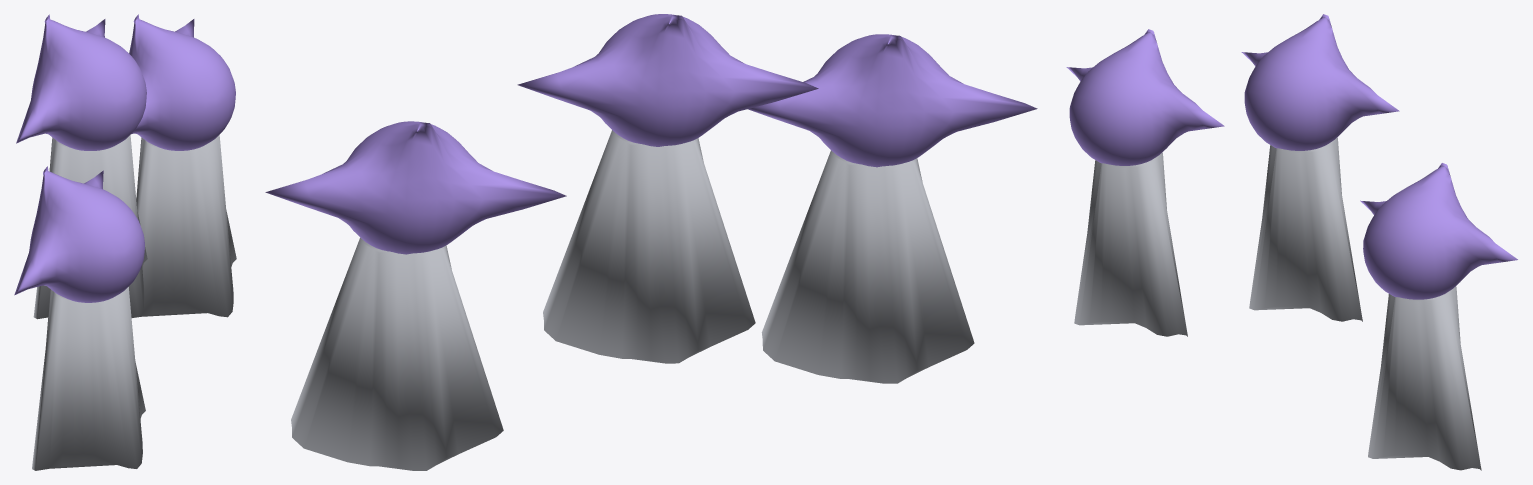
File: glib.glb
The picture shows the model from 3 angles, left to right: view 1: azimuth 30°, elevation 25°; view 2: azimuth 150°, elevation 25°; view 3: azimuth 270°, elevation 25°; orthographic projection. The views are drawn at different scales.
Parts seen in each view (by area): view 1: Cylinder.002, Cylinder.001, Sphere.002, Sphere, Sphere.001, Cylinder; view 2: Cylinder.001, Cylinder, Cylinder.002, Sphere.001, Sphere, Sphere.002; view 3: Cylinder.001, Cylinder, Cylinder.002, Sphere.002, Sphere, Sphere.001.
Part boxes in pixels (<box>): Cylinder.002: <box>32,287,145,470</box>; Cylinder.001: <box>131,135,236,317</box>; Sphere.002: <box>14,166,144,302</box>; Sphere: <box>16,14,146,150</box>; Sphere.001: <box>129,14,235,150</box>; Cylinder: <box>33,135,147,319</box>; Cylinder.001: <box>291,237,503,470</box>; Cylinder: <box>543,130,755,363</box>; Cylinder.002: <box>761,150,974,383</box>; Sphere.001: <box>265,121,566,254</box>; Sphere: <box>517,14,818,146</box>; Sphere.002: <box>747,34,1037,167</box>; Cylinder.001: <box>1368,286,1481,470</box>; Cylinder: <box>1249,137,1362,321</box>; Cylinder.002: <box>1074,152,1187,336</box>; Sphere.002: <box>1066,29,1224,165</box>; Sphere: <box>1241,14,1399,150</box>; Sphere.001: <box>1360,163,1517,299</box>.
Bounding box in the file's own units: 0.9727 × 0.8175 × 0.9395.
